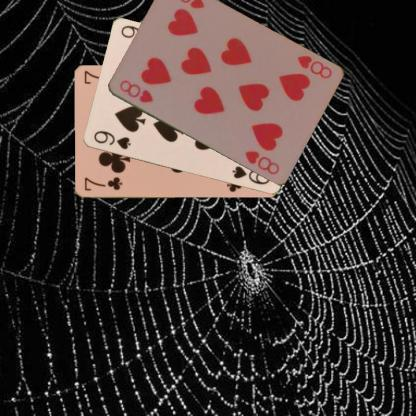7c: (82, 174, 123, 192)
8h: (294, 53, 333, 80), (116, 78, 154, 104)
9s: (90, 128, 132, 151)
